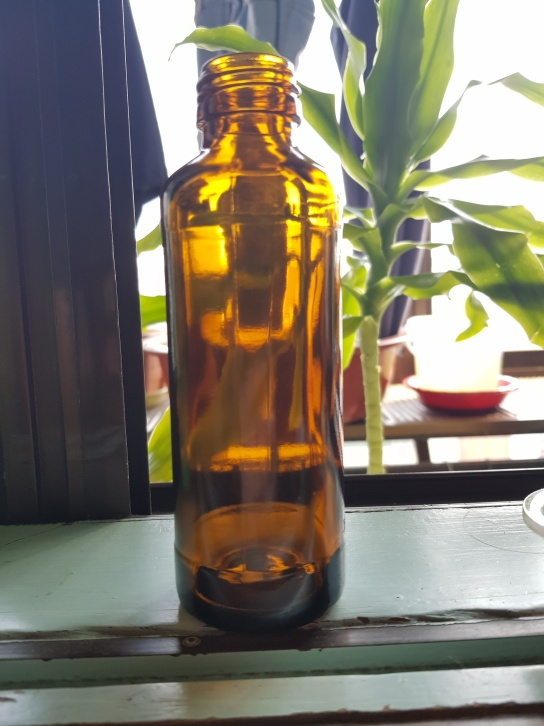Glass: (158, 49, 349, 633)
